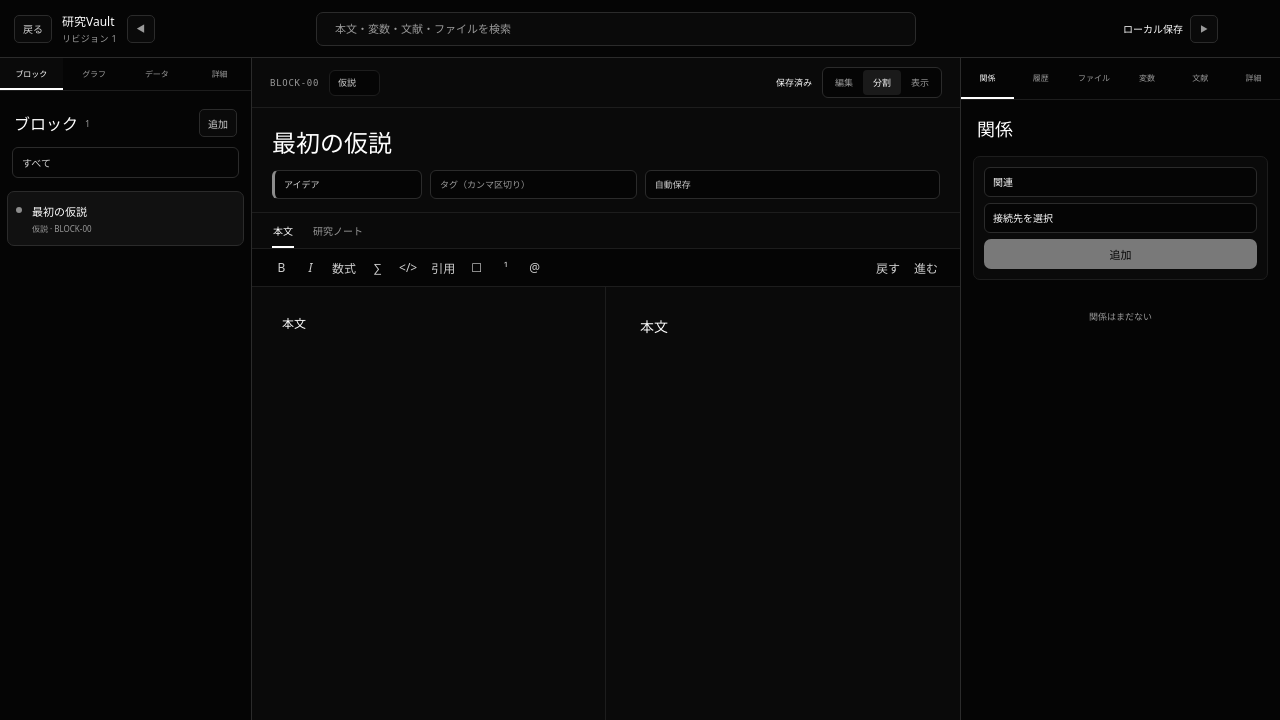
it: Workspace panels and block menu › offers a recoverable delete action from each block context menu
Right-click the button "最初の仮説 仮説 · BLOCK-00" at (126, 218), box [7,191,244,246]
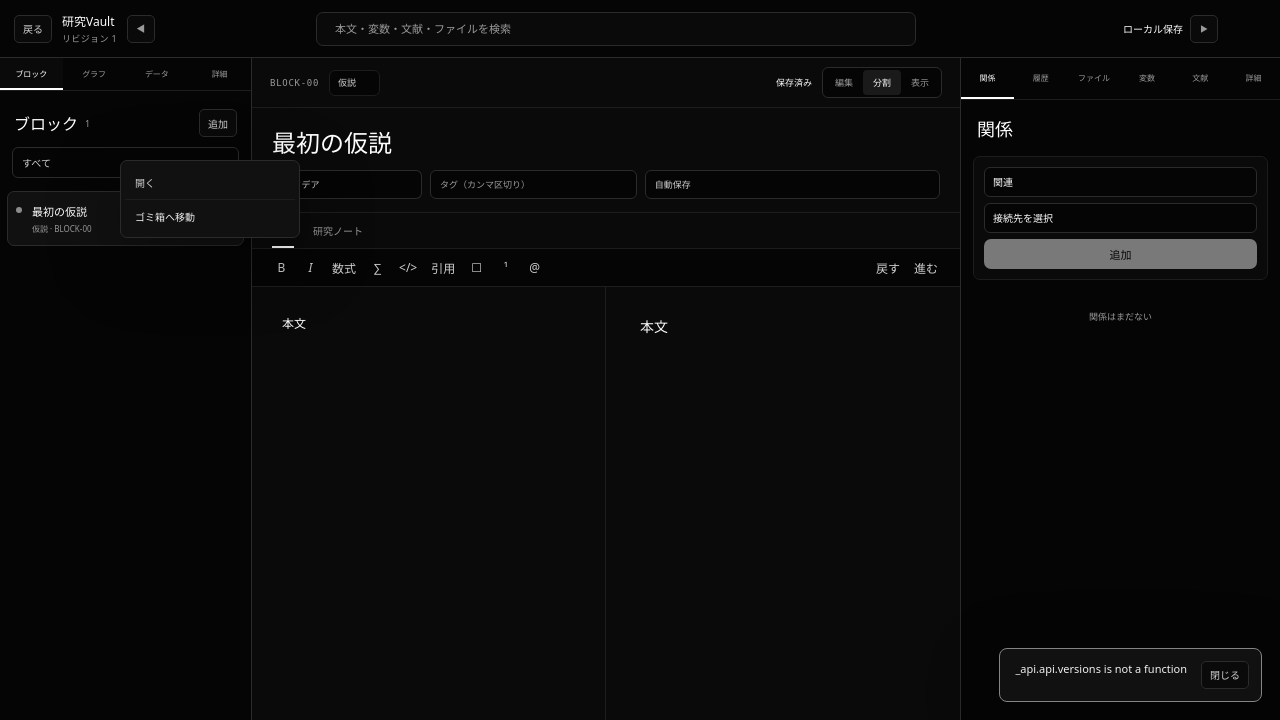
Click the menu item "ゴミ箱へ移動" at (210, 216), box [125,199,295,233]
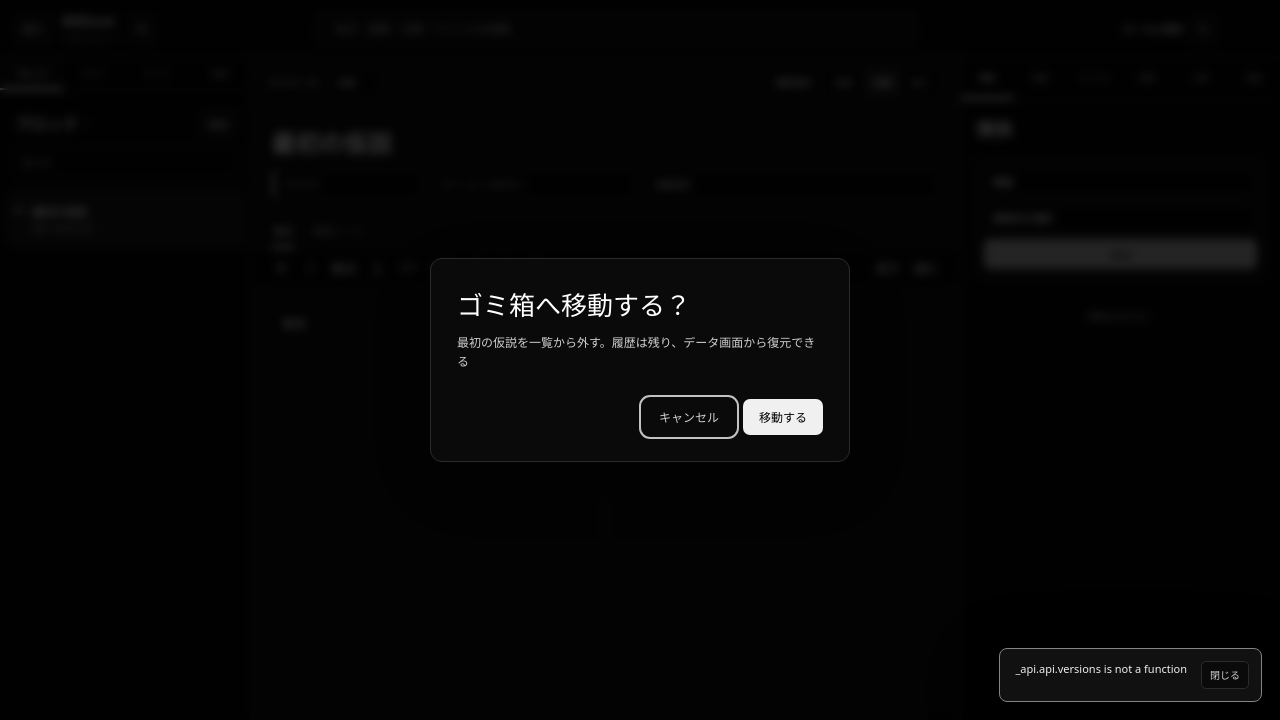
Check: the dialog "ゴミ箱へ移動する？" is shown, box [430,258,850,462]
Click the button "移動する" at (783, 417), box [743,399,823,435]
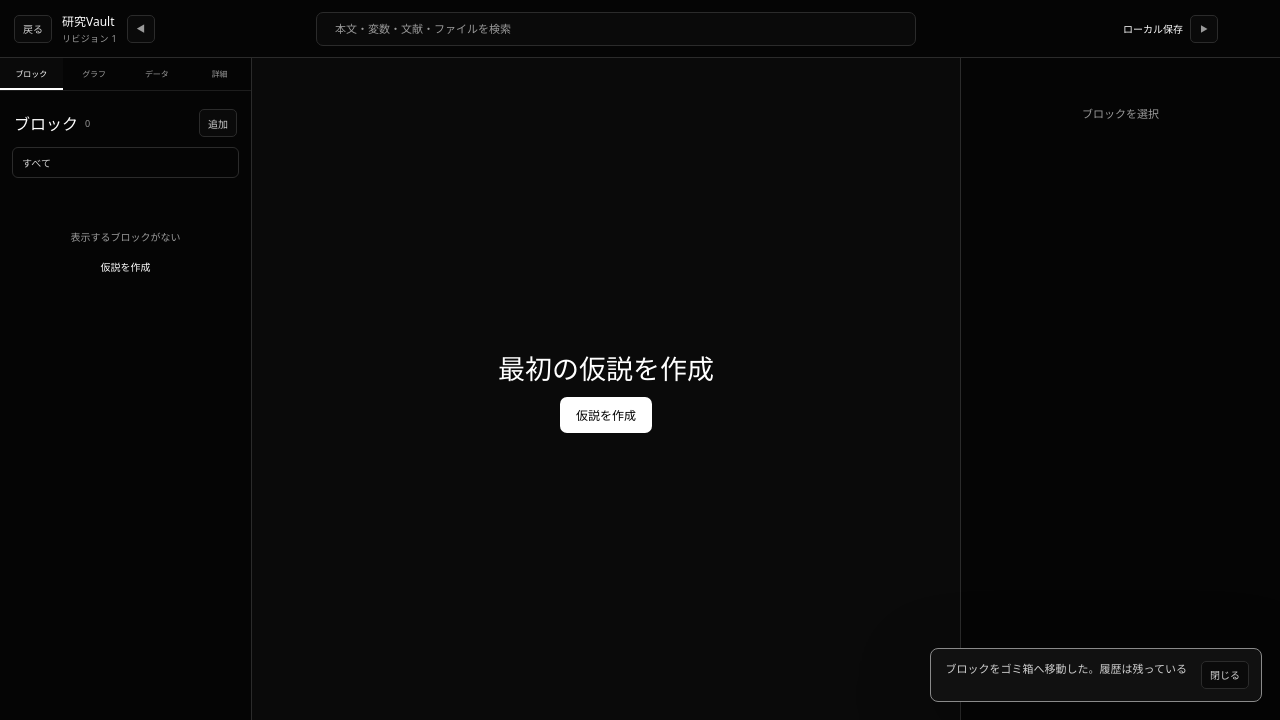
Check: the message shows "履歴は残っている", box [946,661,1187,676]
